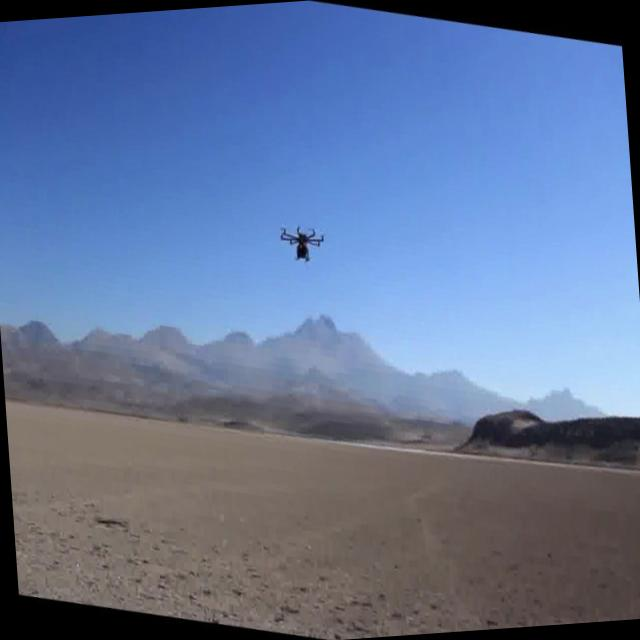drone: (276, 214, 330, 272)
